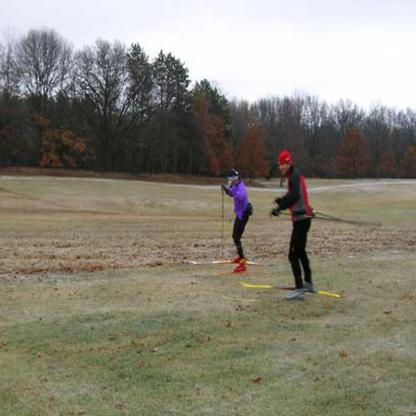face: (280, 159, 289, 176), (229, 177, 236, 186)
